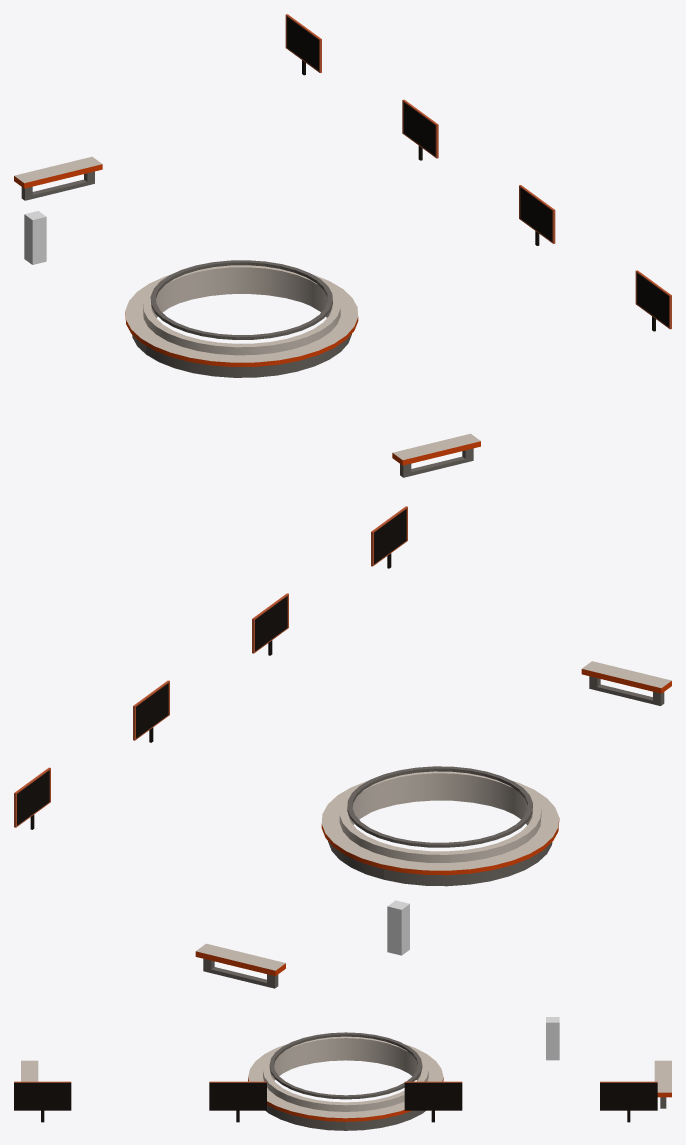
The model's file is micc.fbx.
3 renders of one model, top to bottom at view 1: azimuth 30°, elevation 25°; view 2: azimuth 150°, elevation 25°; view 3: azimuth 270°, elevation 25°, orthographic. The views are drawn at different scales.
Visible parts, largest first — view 1: Cylinder.092, Circle, Cube.434, Circle.001, Cube.060, Cube.061, Hooman\; view 2: Cylinder.092, Circle, Cube.434, Circle.001, Cube.061, Cube.060, Hooman\; view 3: Cube.434, Cylinder.092, Circle, Circle.001, Cube.061, Hooman\, Cube.060.
Part boxes in pixels (x1,y1,x2,y2): Cylinder.092: (143,265,340,355); Circle: (125,274,358,377); Cube.434: (285,14,671,331); Circle.001: (150,260,332,339); Cube.060: (392,433,480,477); Cube.061: (14,156,102,200); Hooman\: (24,211,46,264); Cylinder.092: (339,771,541,862); Circle: (321,780,559,886); Cube.434: (14,506,407,829); Circle.001: (347,766,532,847); Cube.061: (195,943,285,988); Cube.060: (581,661,671,705); Hooman\: (387,900,409,955); Cube.434: (14,1081,657,1122); Cylinder.092: (263,1036,428,1111); Circle: (248,1044,443,1130); Circle.001: (269,1032,422,1099); Cube.061: (654,1060,671,1108); Hooman\: (546,1017,559,1060); Cube.060: (21,1060,38,1081).
Bounding box in the file's own units: 1615 × 596 × 3299.
